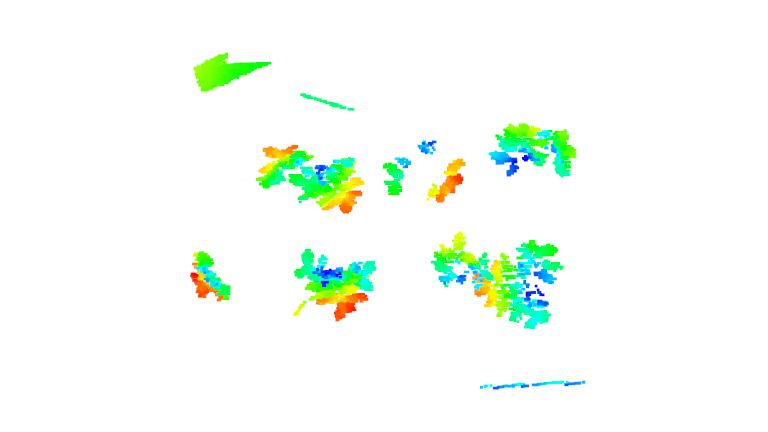chickpea: (253, 140, 367, 213), (432, 230, 507, 325), (290, 243, 377, 321), (506, 234, 571, 337), (381, 136, 468, 205), (490, 119, 580, 181), (187, 247, 235, 301)
